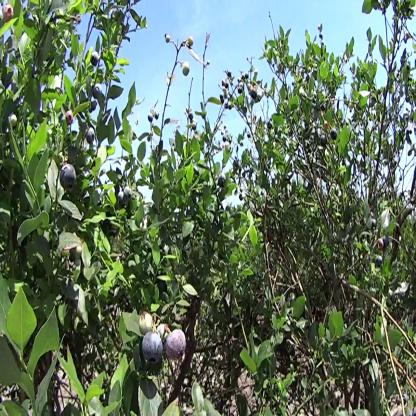intermediate: (67, 110, 77, 127)
mature: (142, 331, 167, 365), (165, 327, 189, 360), (60, 161, 78, 194)
young: (138, 309, 156, 335), (182, 61, 192, 79), (10, 113, 19, 131), (88, 130, 98, 146)
